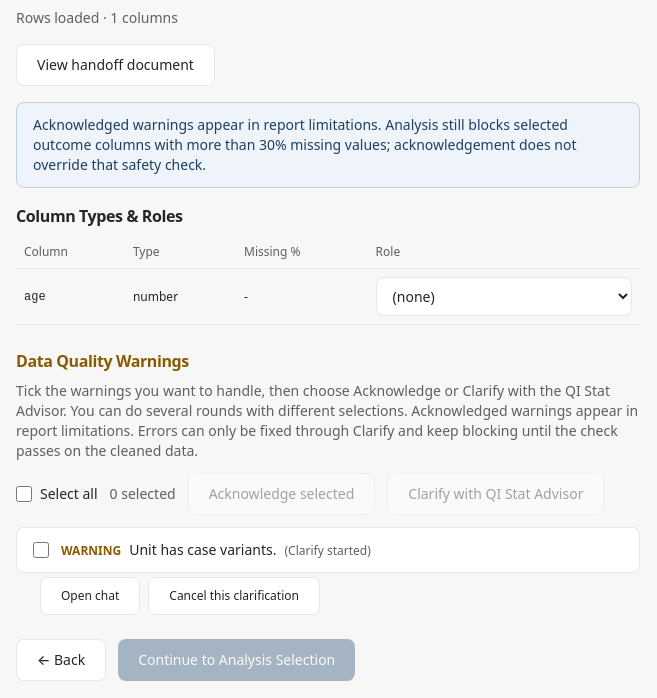
Test case: DataReview › cancels an open clarification, refetches, and makes the warning selectable again
The image size is (657, 698).
(page scrolled)
Click the button "Cancel this clarification" at [234, 596], box left=148, top=577, right=320, bottom=615
(page scrolled)
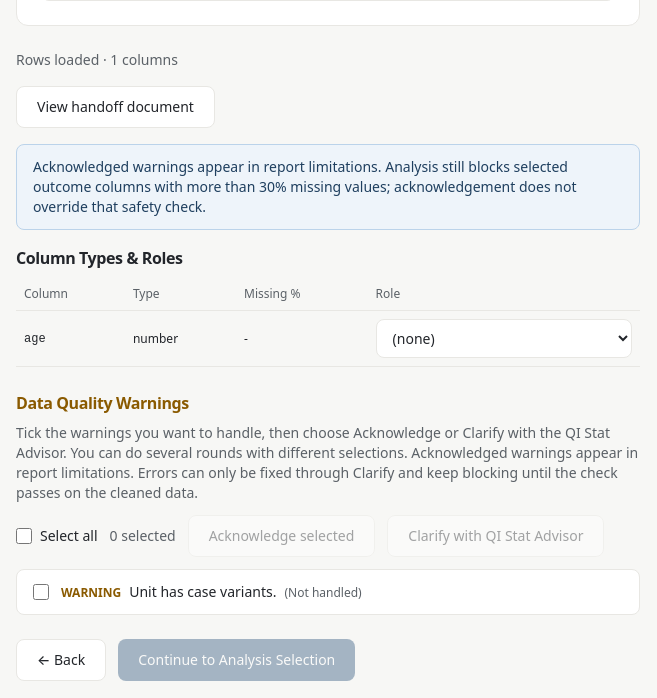
Expected: the checkbox labelled "Unit has case variants" is enabled, left=33, top=584, right=49, bottom=600
Now the button "Cancel this clarification" is gone
Now the text with test id "state-category_variants:unit" shows "Not handled", box left=288, top=584, right=358, bottom=601
